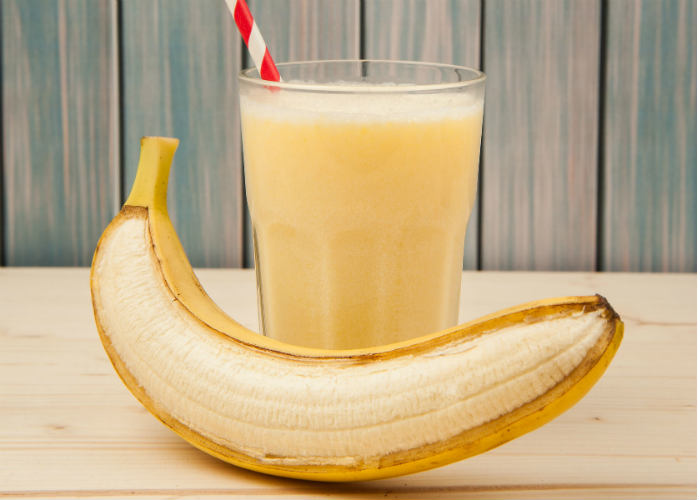banana: (83, 133, 642, 488), (268, 288, 633, 498), (59, 119, 250, 460)
